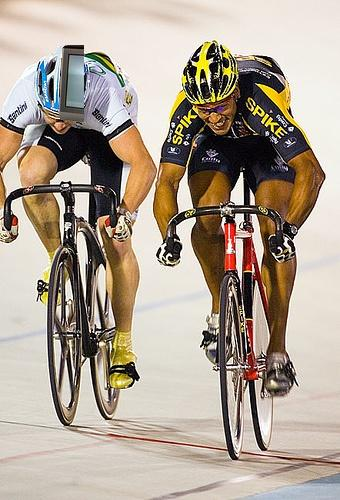tampered: (60, 46, 84, 123)
